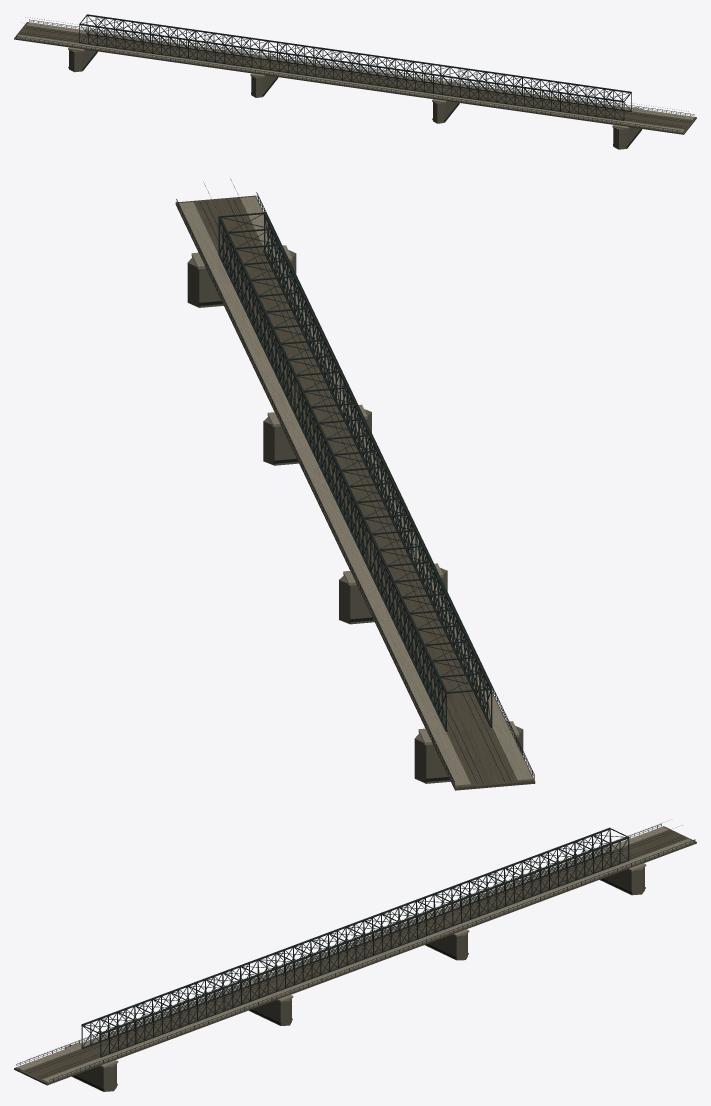
The picture shows the model from 3 angles, top to bottom: view 1: azimuth 30°, elevation 25°; view 2: azimuth 150°, elevation 25°; view 3: azimuth 270°, elevation 25°; orthographic projection. The views are drawn at different scales.
Visible parts, largest first — view 1: willemsbrug-oud-1, willemsbrug-oud-0, willemsbrug-oud-4, willemsbrug-oud-3, willemsbrug-oud-5, willemsbrug-oud-2; view 2: willemsbrug-oud-1, willemsbrug-oud-0, willemsbrug-oud-4, willemsbrug-oud-3, willemsbrug-oud-5, willemsbrug-oud-2; view 3: willemsbrug-oud-1, willemsbrug-oud-0, willemsbrug-oud-4, willemsbrug-oud-3, willemsbrug-oud-5, willemsbrug-oud-2.
Part boxes in pixels (left/top/right/bottom): willemsbrug-oud-1: left=16, top=14, right=694, bottom=132; willemsbrug-oud-0: left=14, top=22, right=696, bottom=134; willemsbrug-oud-4: left=16, top=22, right=694, bottom=132; willemsbrug-oud-3: left=69, top=30, right=641, bottom=149; willemsbrug-oud-5: left=20, top=27, right=690, bottom=128; willemsbrug-oud-2: left=16, top=17, right=694, bottom=147; willemsbrug-oud-1: left=176, top=192, right=534, bottom=786; willemsbrug-oud-0: left=175, top=195, right=535, bottom=790; willemsbrug-oud-4: left=178, top=196, right=532, bottom=785; willemsbrug-oud-3: left=187, top=250, right=523, bottom=783; willemsbrug-oud-5: left=200, top=199, right=510, bottom=783; willemsbrug-oud-2: left=176, top=178, right=533, bottom=783; willemsbrug-oud-1: left=16, top=823, right=695, bottom=1081; willemsbrug-oud-0: left=14, top=826, right=696, bottom=1085; willemsbrug-oud-4: left=16, top=826, right=694, bottom=1082; willemsbrug-oud-3: left=68, top=866, right=644, bottom=1091; willemsbrug-oud-5: left=26, top=831, right=684, bottom=1078; willemsbrug-oud-2: left=16, top=820, right=694, bottom=1090.
Bounding box in the file's own units: 232 × 21.54 × 259.
Materials: 6 (6 with a texture image).
